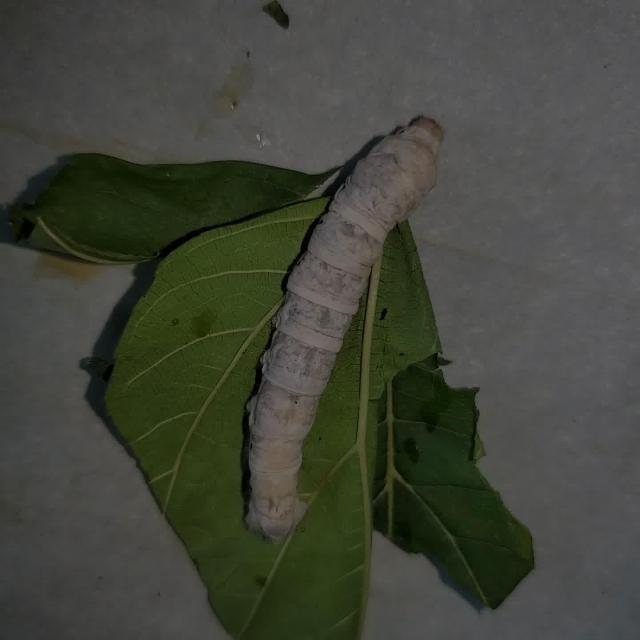Grasserie: (221, 94, 478, 572)
